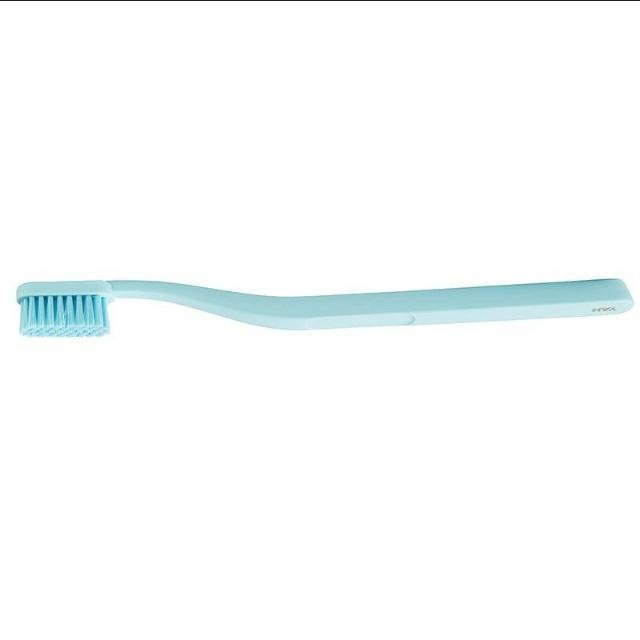toothbrush: (0, 248, 640, 412)
